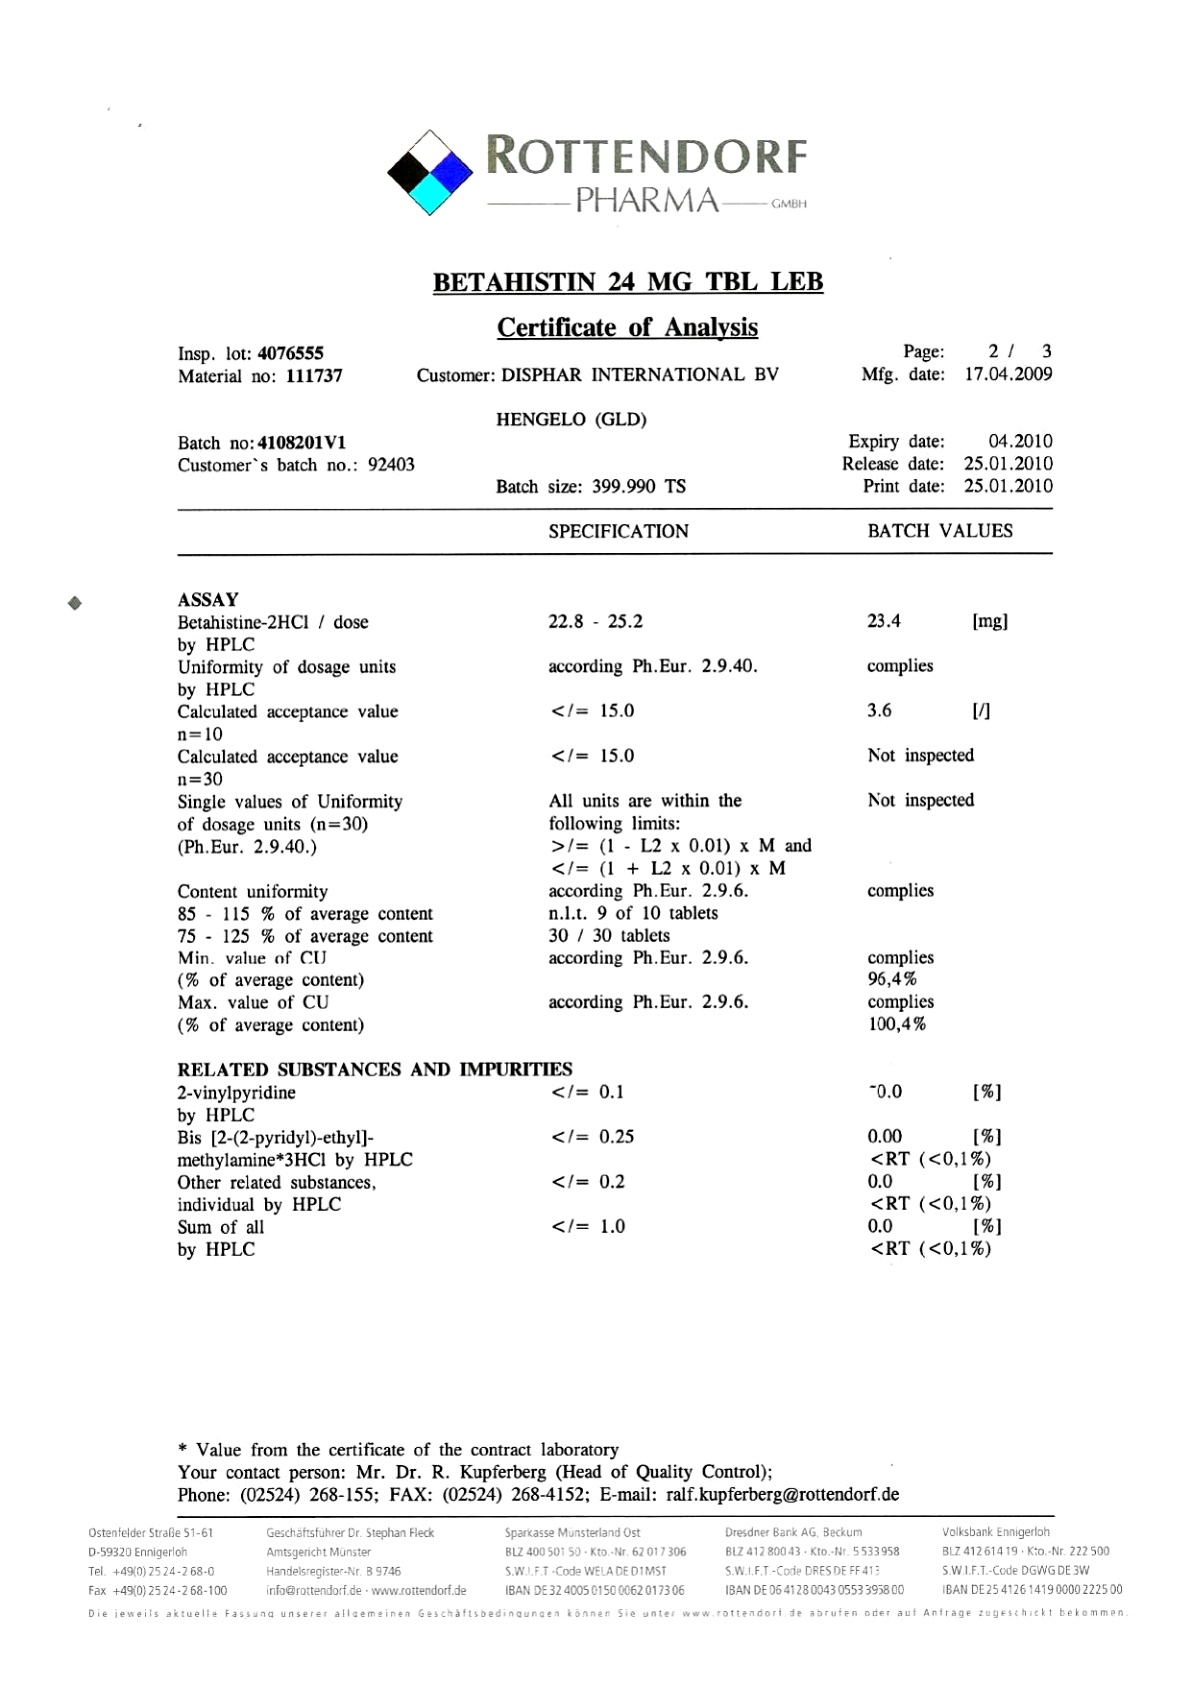nolines: (175, 342, 1057, 497)
partial_lined: (175, 508, 1051, 1264)
